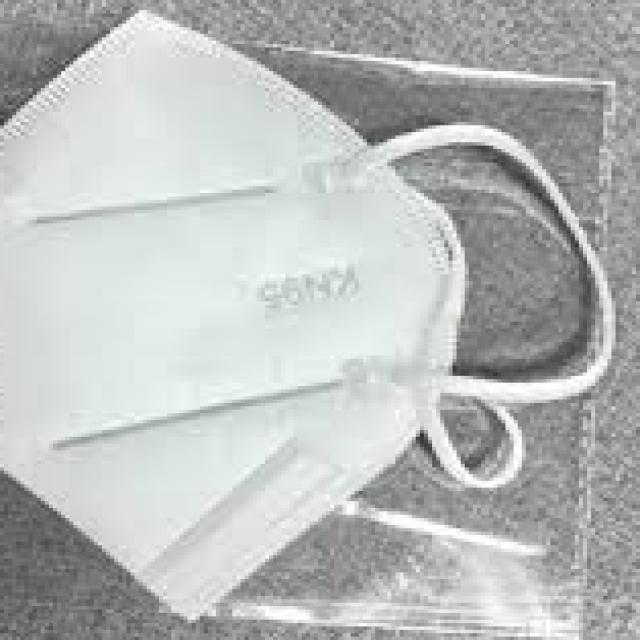organic: (7, 16, 614, 624)
